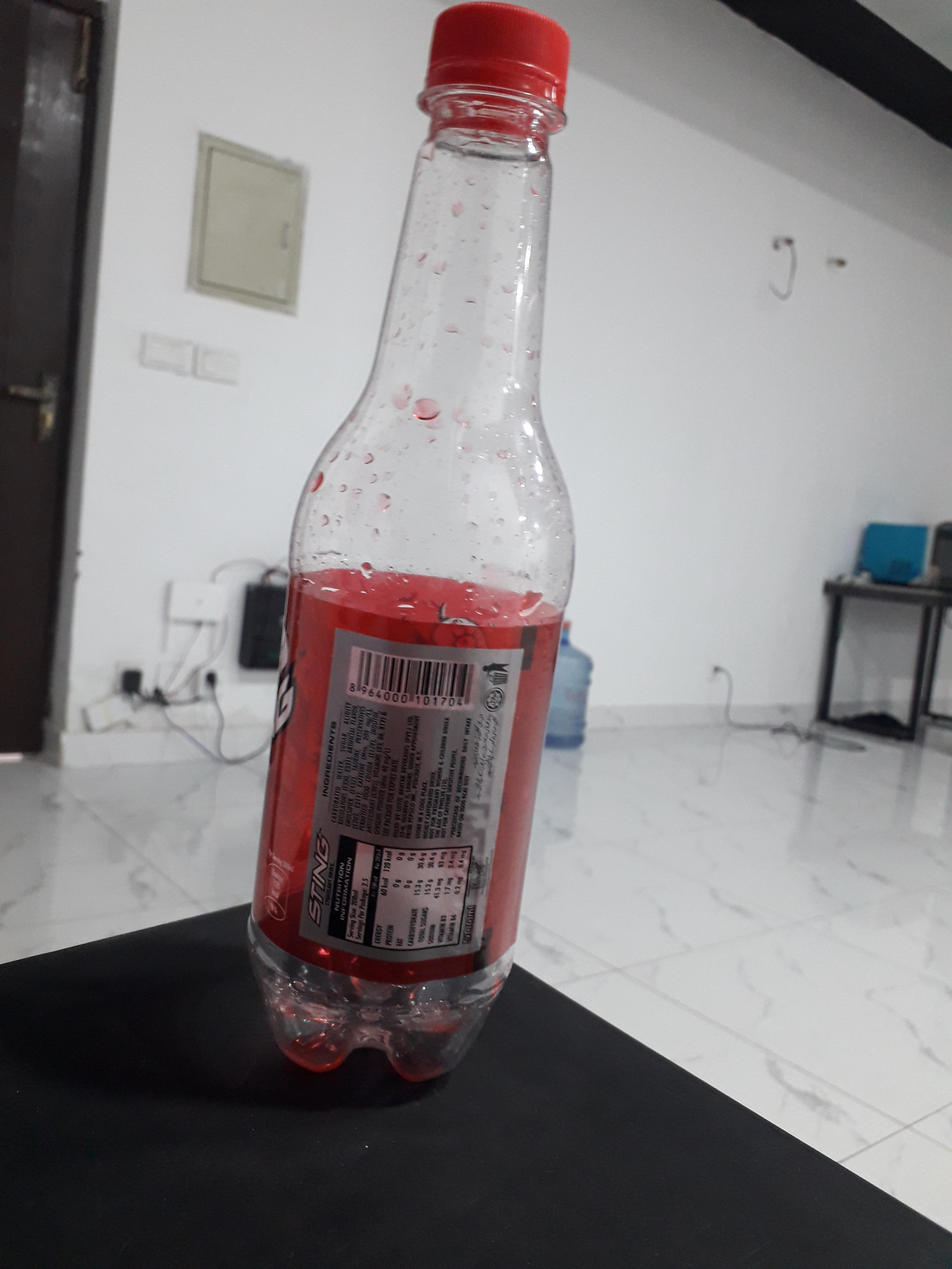bottle-plastic: (250, 4, 579, 1090)
